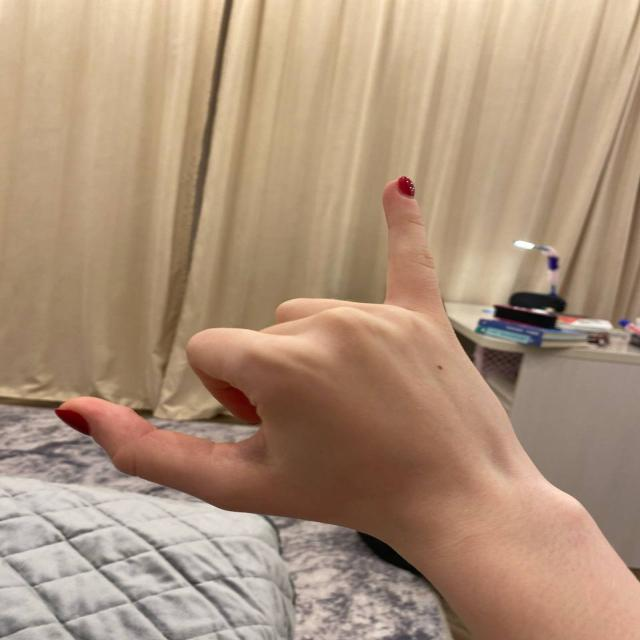u: (49, 166, 564, 522)
